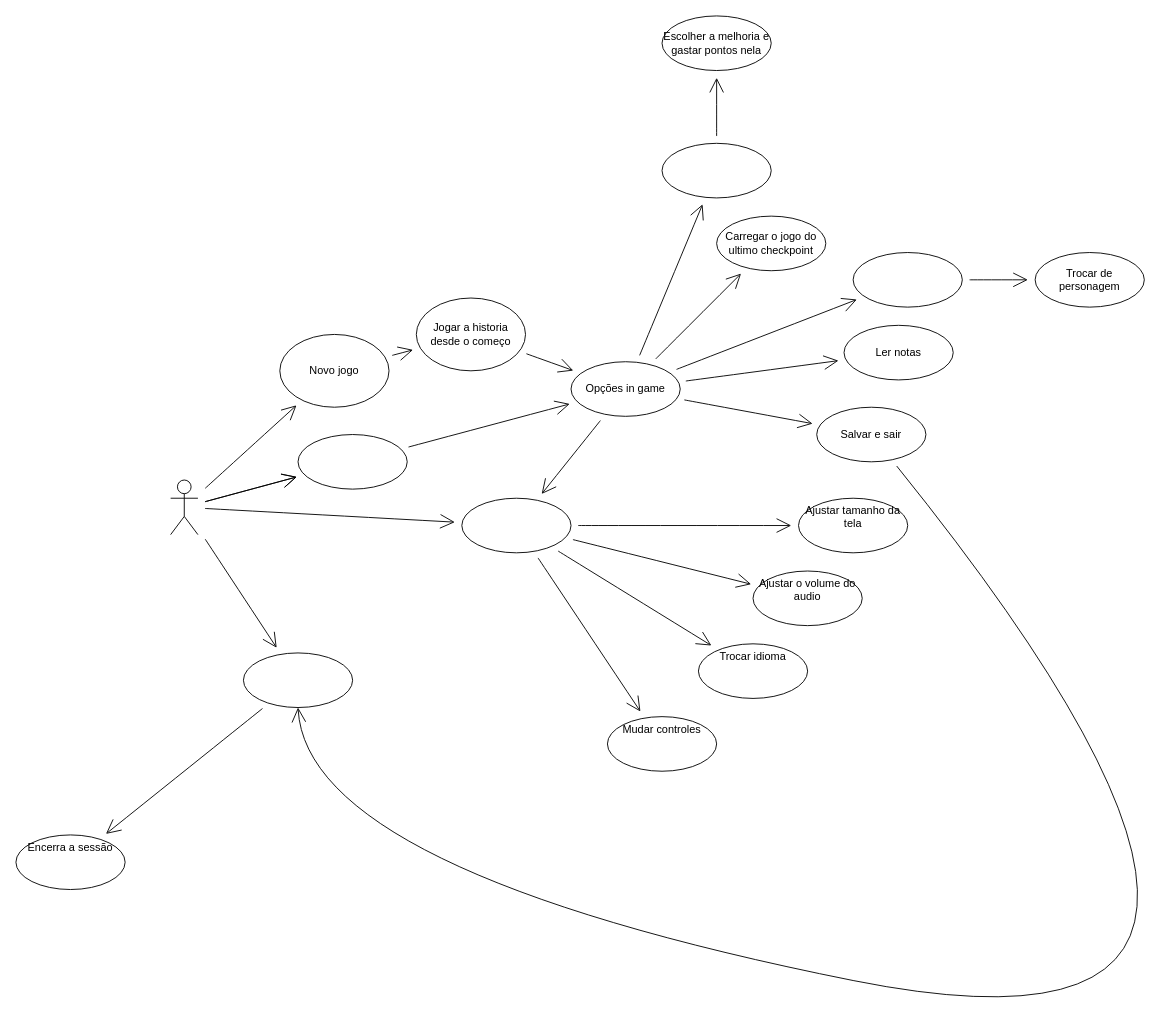
Some shapes in this 1160 by 1013 pixel diagram are drawn without their labels. Here are the shapes that lost their labels. From the top down, the box of each, then its label:
(661, 142, 771, 198): Atualizar habilidades do jogador
(852, 252, 962, 307): Ver personagens
(297, 434, 407, 489): Carregar jogo
(170, 479, 198, 535): Jogador
(461, 497, 571, 553): Opções
(243, 652, 353, 708): Sair
